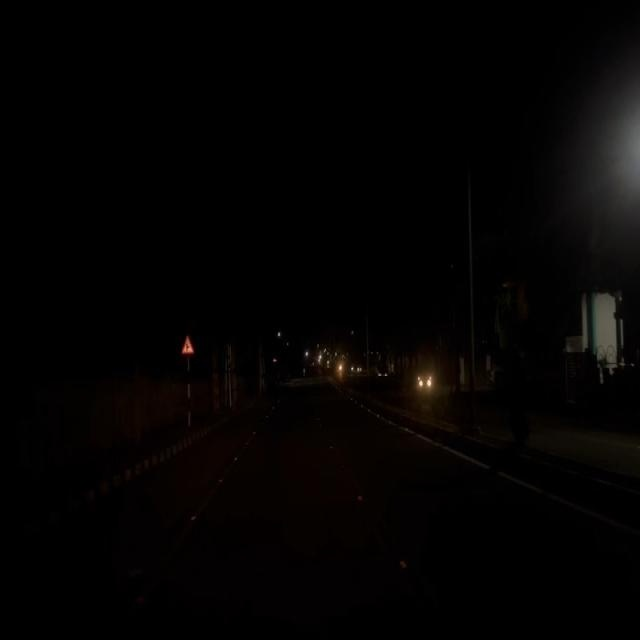bien_nguy_hiem: (181, 332, 194, 358)
